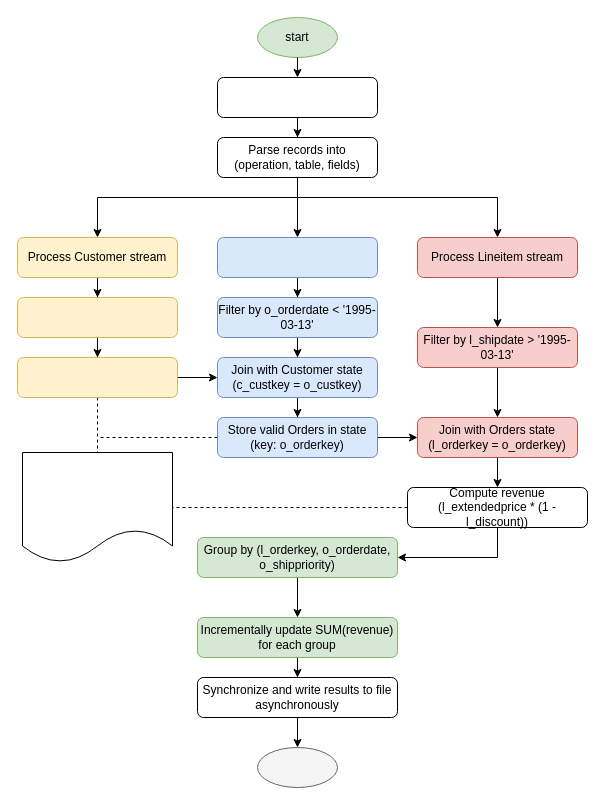
This 605x805 diagram has some shape labels left out. The box of each missing label's shape, as (x1, y1, x2, y2) in pixels:
Filter by c_mktsegment = 'AUTOMOBILE': (16, 296, 178, 338)
Process Orders stream: (216, 236, 378, 278)
Read input stream (insert/delete operations): (216, 76, 378, 118)
revenue will become negative if customer, orders, or lineitem is deleted: (22, 452, 172, 562)
stop: (256, 746, 338, 788)
Store in state (key: c_custkey): (16, 356, 178, 398)
